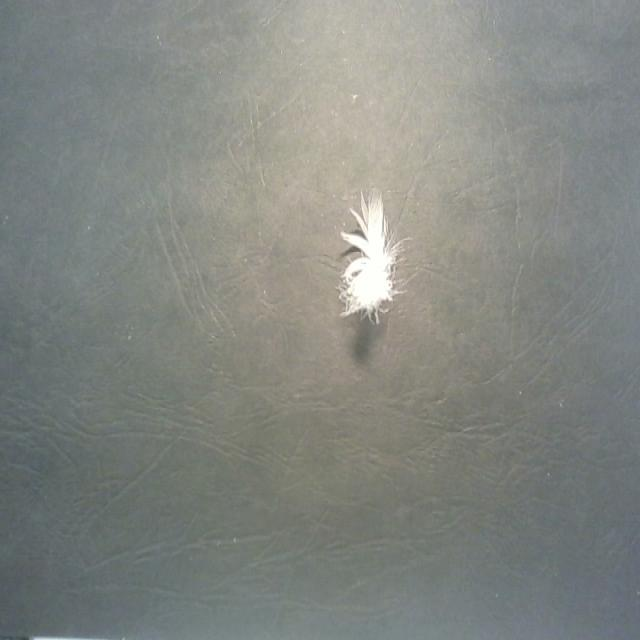feather: (337, 193, 404, 316)
